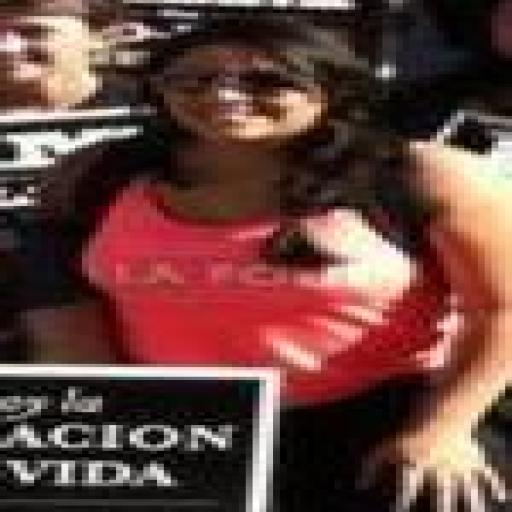person: (21, 17, 511, 511), (0, 0, 143, 257), (390, 0, 511, 138)
